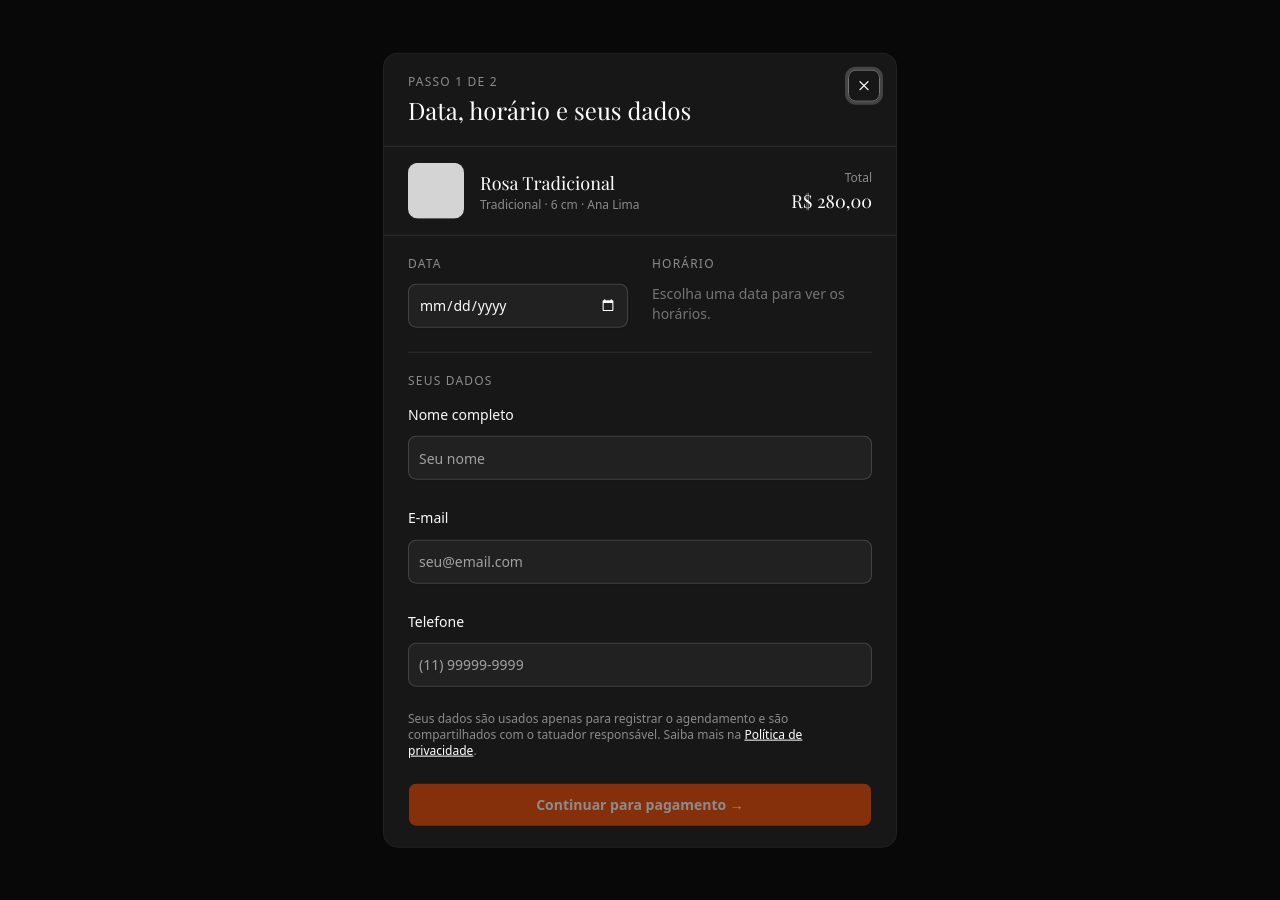
Test: BookingDialog › disables taken slots and slots without room for the flash duration
Step 1. Type "2030-01-15" into the date field labelled "Data" → coordinates (518, 306), box [408,284,628,328]
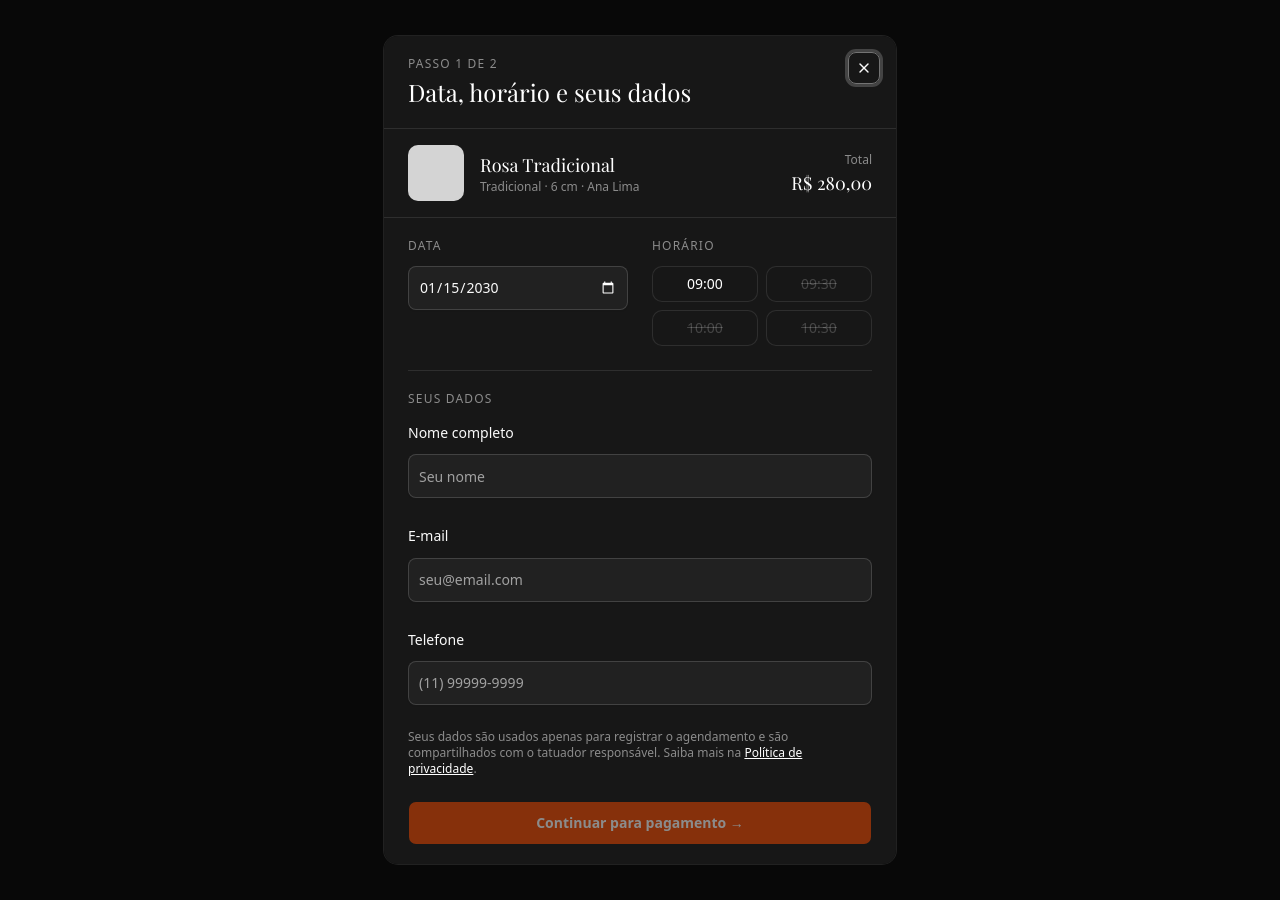
Expected: the button "09:00" is enabled, [652,266,758,302]
Expected: the button "09:30" is disabled, [766,266,872,302]
Expected: the button "10:00" is disabled, [652,310,758,346]
